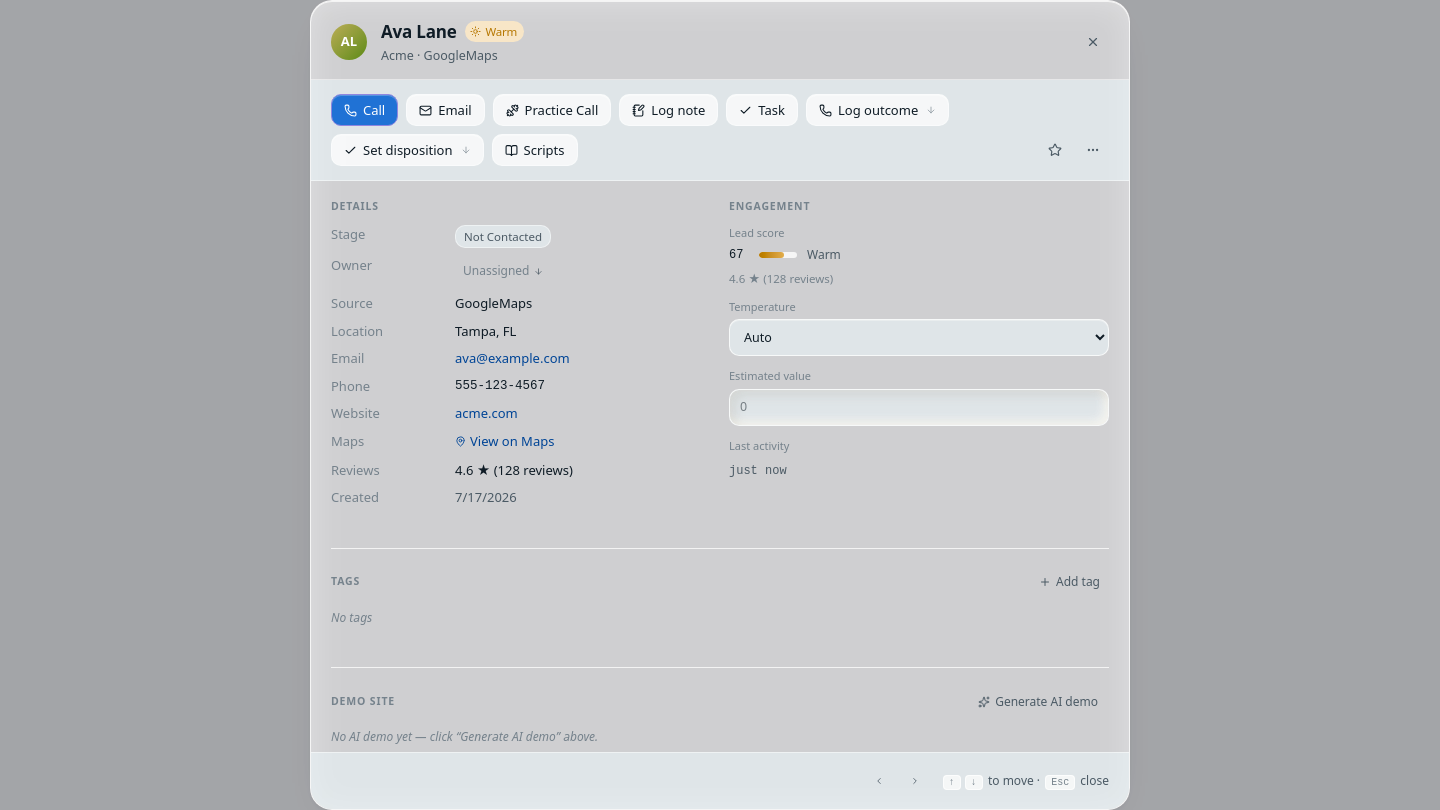
Test: LeadModal › opens the create task dialog with title, due date, and priority fields
What coordinates should you click on to do the following:
click the button "Task"
I would click on:
 (762, 110)
Its box is [726,94,798,126].
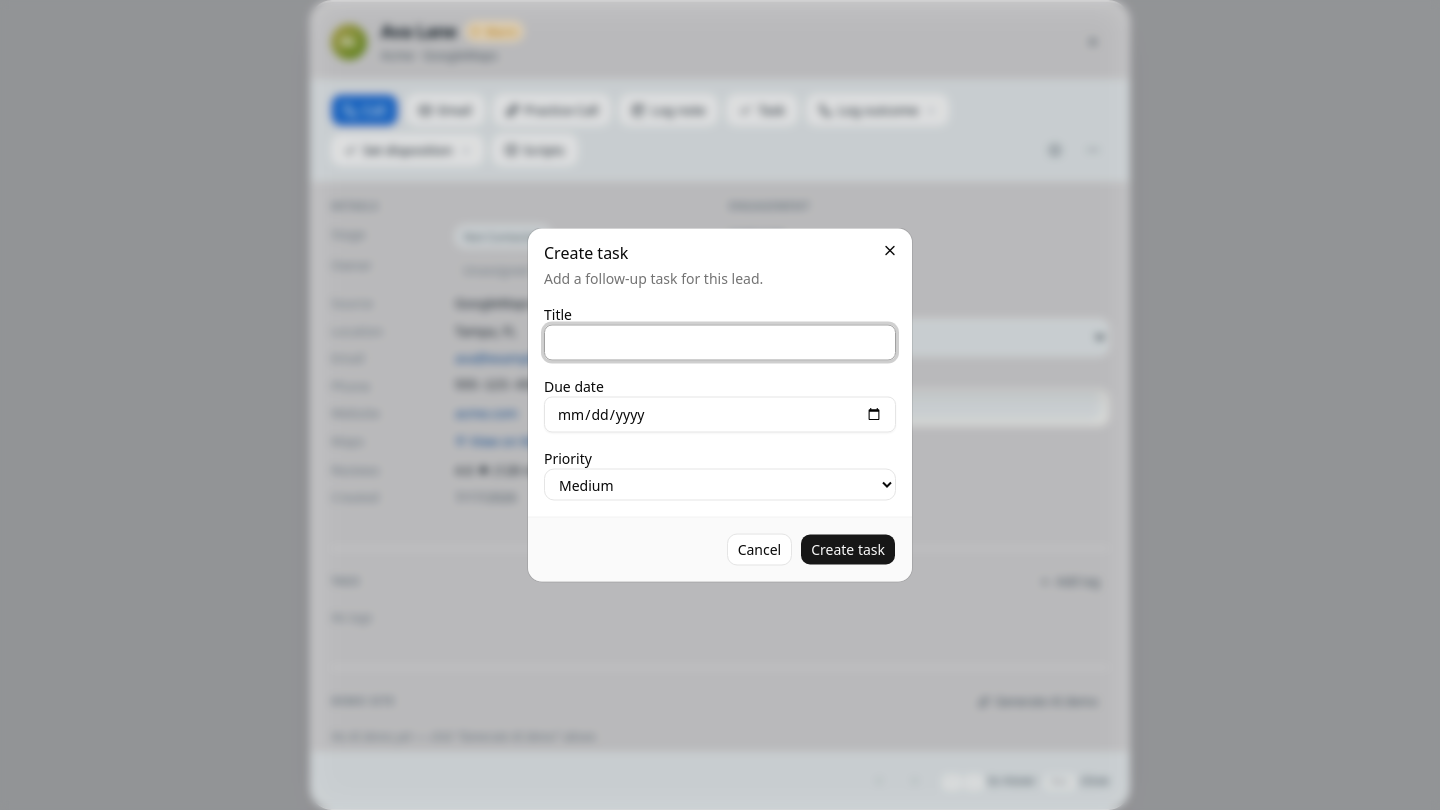
Check: the dialog is shown, box [528,228,912,582]
Check: the field labelled "Title" is shown, box [544,324,896,360]
Check: the date field labelled "Due date" is shown, box [544,396,896,432]
